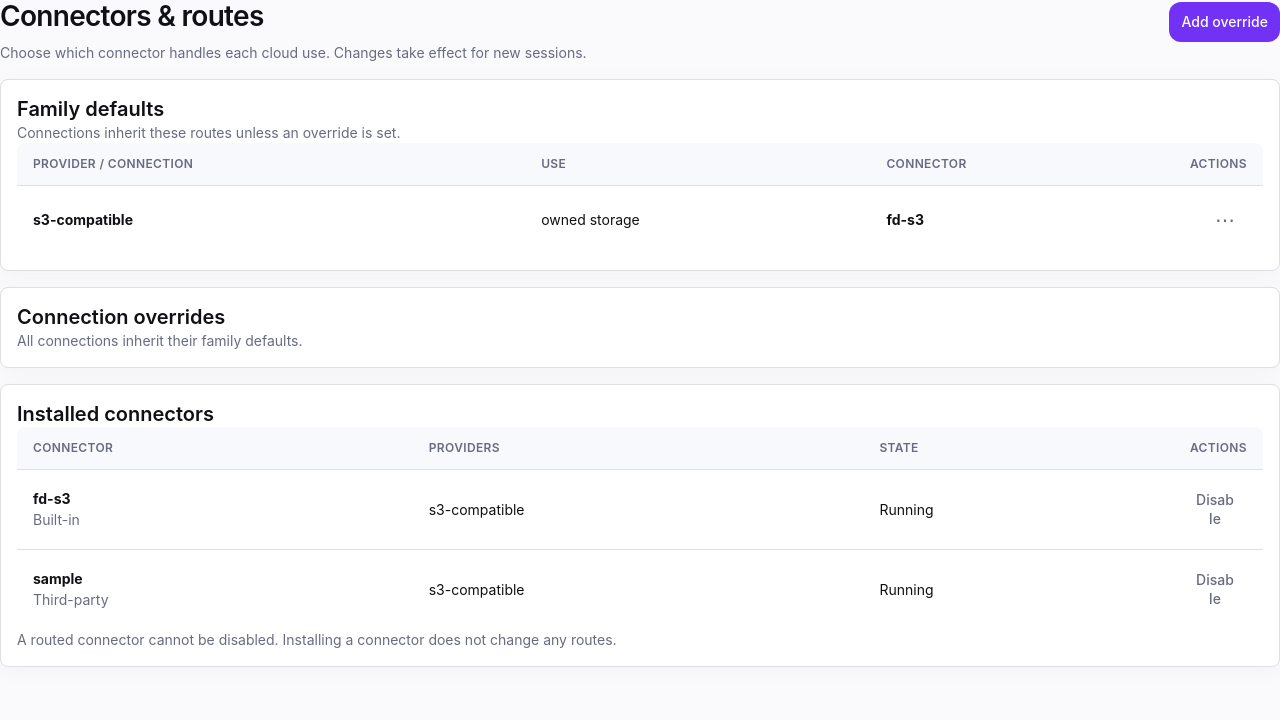
Scenario: failed apply preserves the chosen connector and acknowledgements
Click the button named "Actions for s3-compatible owned storage default" at (1225, 220), box [1203, 198, 1247, 242]
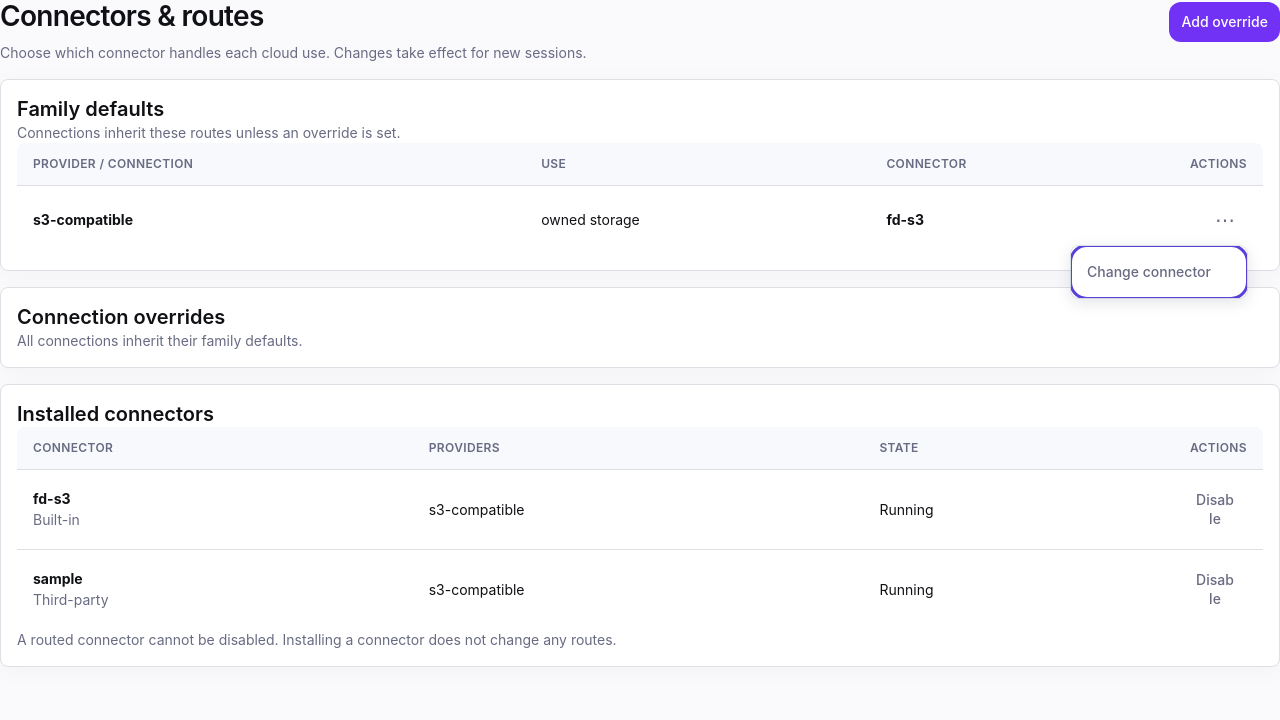
Click the button "Change connector" at (1159, 272), box [1075, 250, 1243, 294]
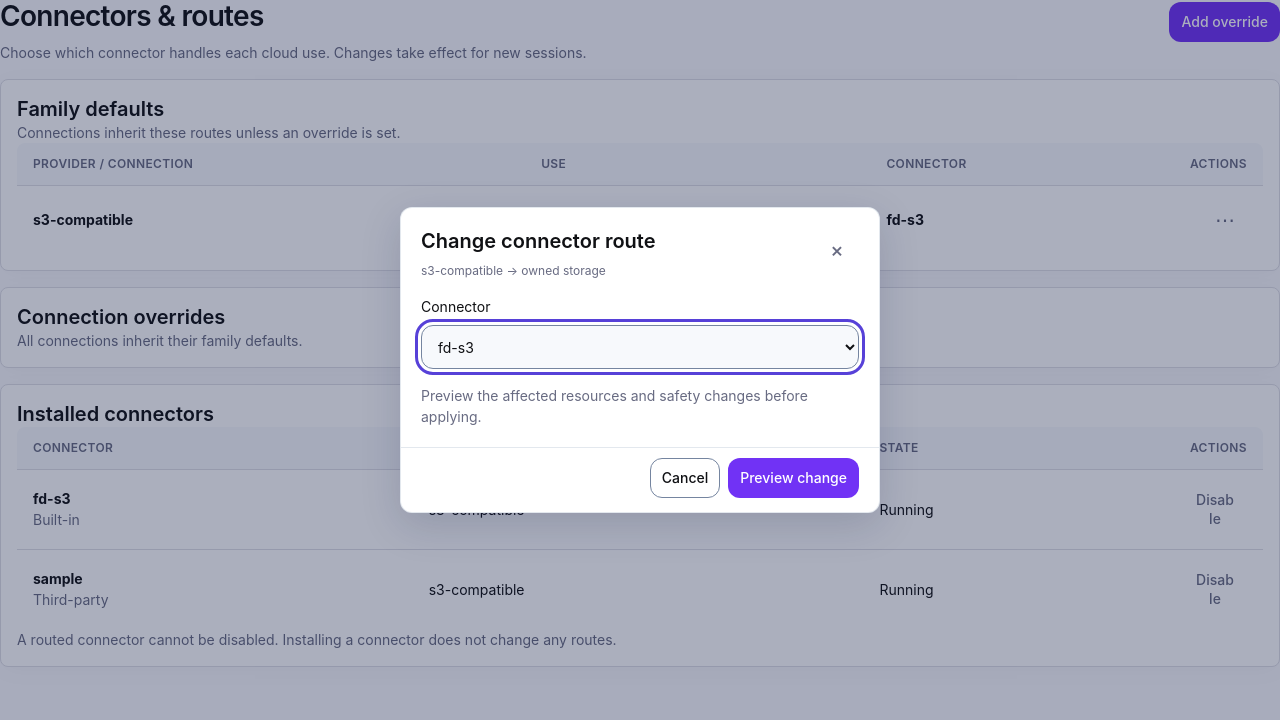
Select "sample · Third-party" in the dropdown labelled "Connector" at (640, 347), box [421, 325, 859, 369]
Click the button "Preview change" at (794, 478), box [728, 456, 859, 500]
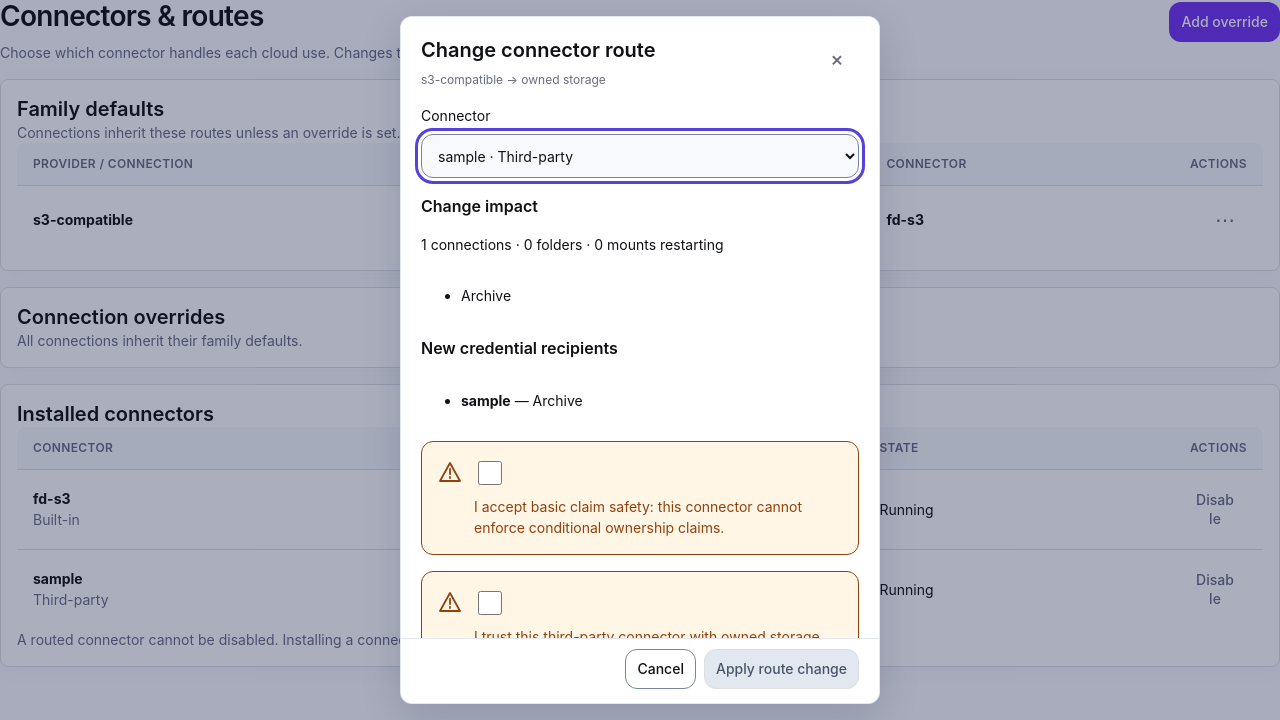
Click the checkbox labelled "I accept basic claim safety" at (490, 473), box [478, 461, 502, 485]
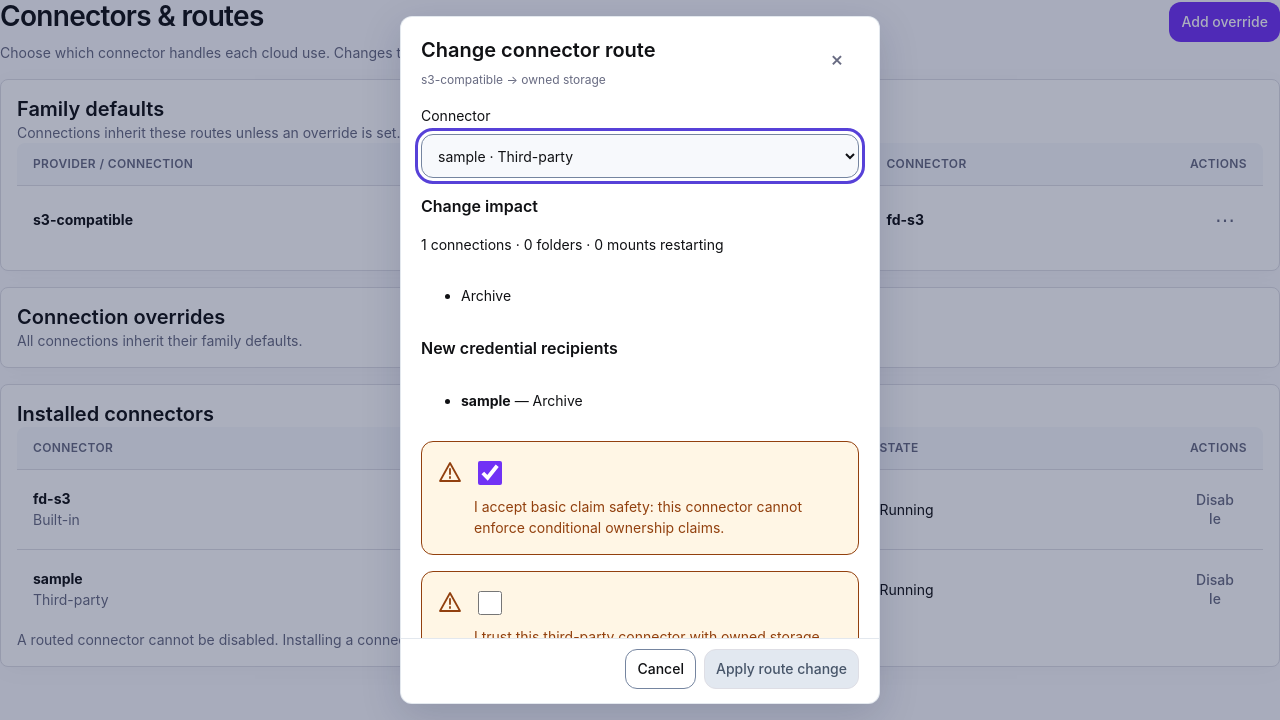
Click the checkbox labelled "I trust this third-party connector" at (490, 603), box [478, 591, 502, 615]
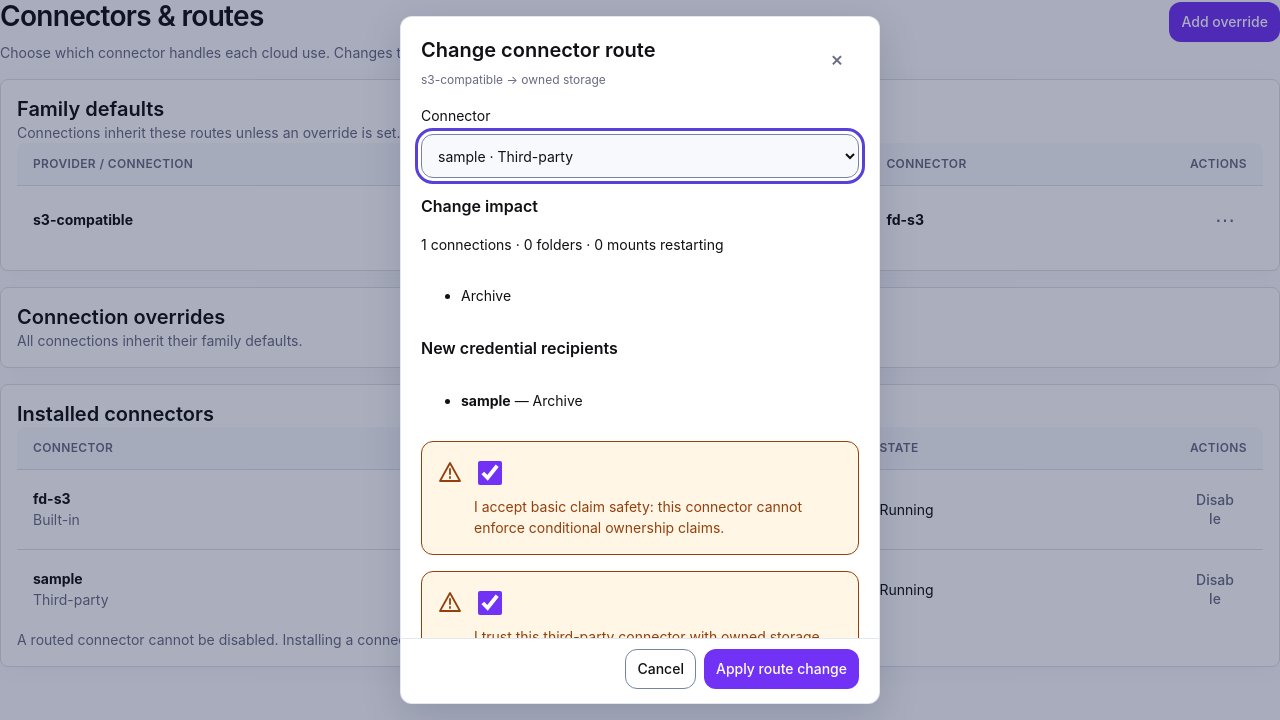
Click the button "Apply route change" at (782, 669), box [704, 647, 859, 691]
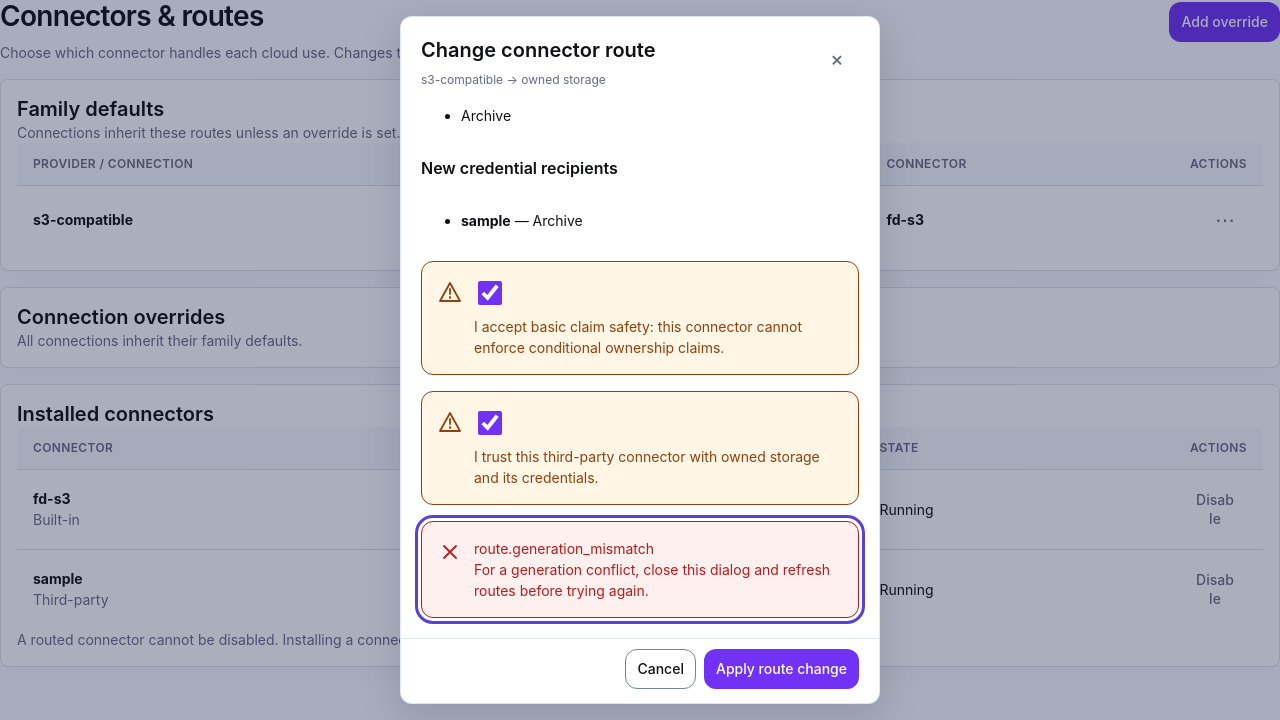
Expected: the checkbox labelled "I accept basic claim safety" is checked, [478, 281, 502, 305]
Expected: the message shows "route.generation_mismatch", [474, 540, 654, 557]
Expected: the dialog is shown, [400, 16, 880, 704]
